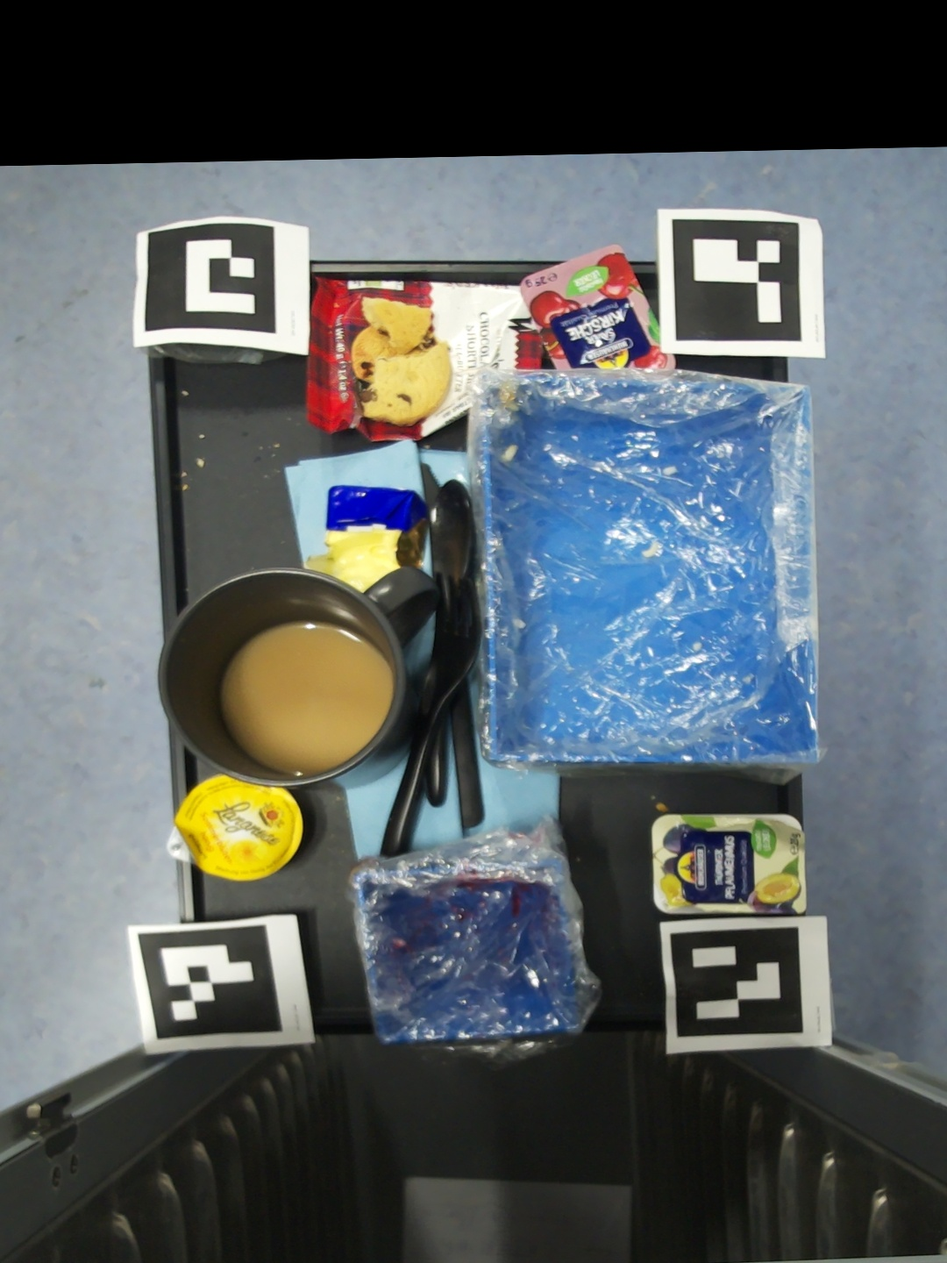butter: (307, 485, 430, 593)
cherry_jam: (520, 244, 676, 369)
coffee_cup: (159, 566, 443, 790)
cookie: (305, 276, 546, 441)
honey: (166, 776, 303, 882)
rice: (652, 814, 807, 915), (501, 445, 518, 461), (641, 541, 657, 557), (663, 465, 678, 475), (515, 620, 526, 628), (694, 641, 702, 652), (742, 677, 750, 684)
